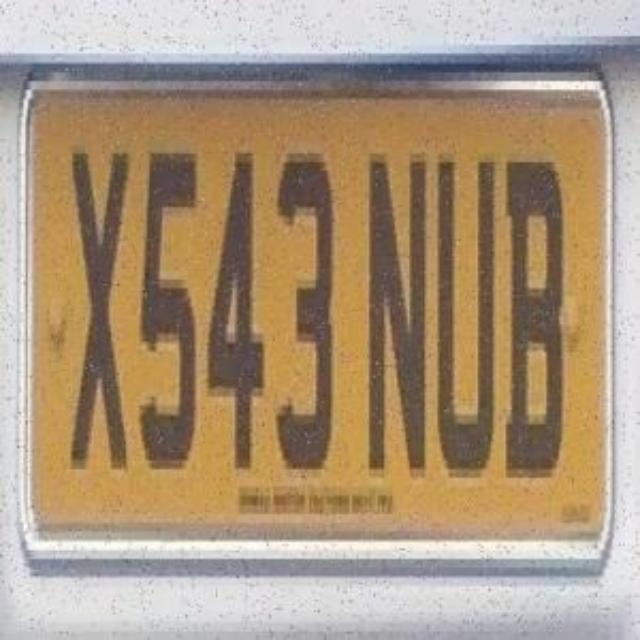License Plate: (14, 25, 616, 609)
